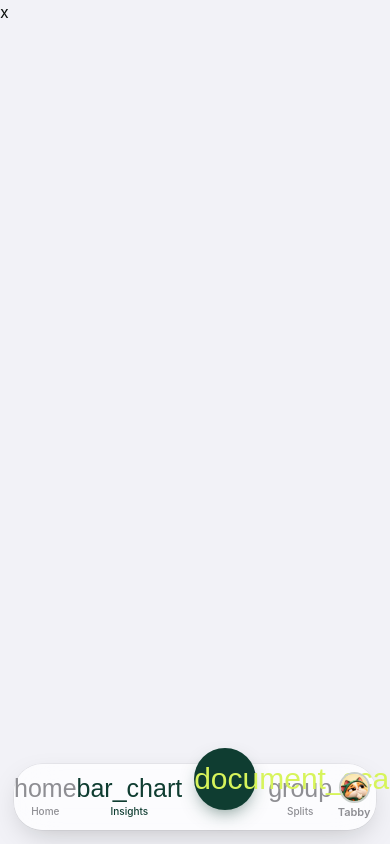
Test: AppShell › opens the scanner with three ways to add receipts
The width and height of the screenshot is (390, 844).
What coordinates should you click on to do the following:
click the button named "Scan a receipt"
I would click on:
 (225, 779)
Its box is top-left (194, 748), bottom-right (256, 810).
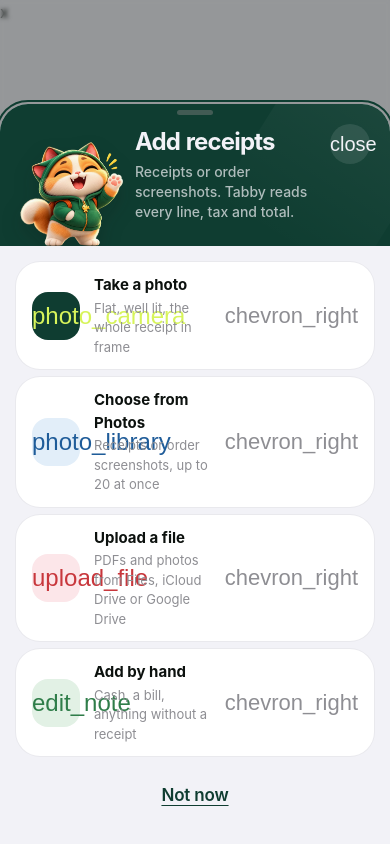
Result: the button "Take a photo Flat, well lit, the whole receipt in frame" is shown at top-left (16, 262), bottom-right (374, 369)
Result: the button "Choose from Photos" is shown at top-left (16, 377), bottom-right (374, 506)
Result: the button "Upload a file" is shown at top-left (16, 514), bottom-right (374, 641)
